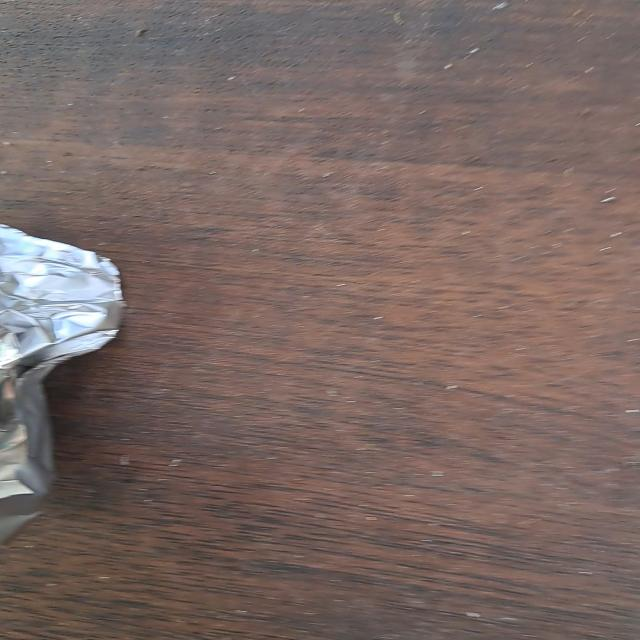Anorganik: (3, 219, 122, 544)
